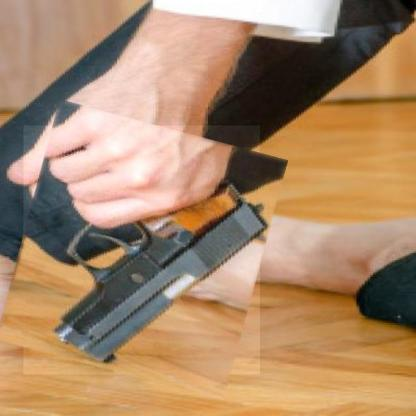handgun: (9, 195, 274, 388)
